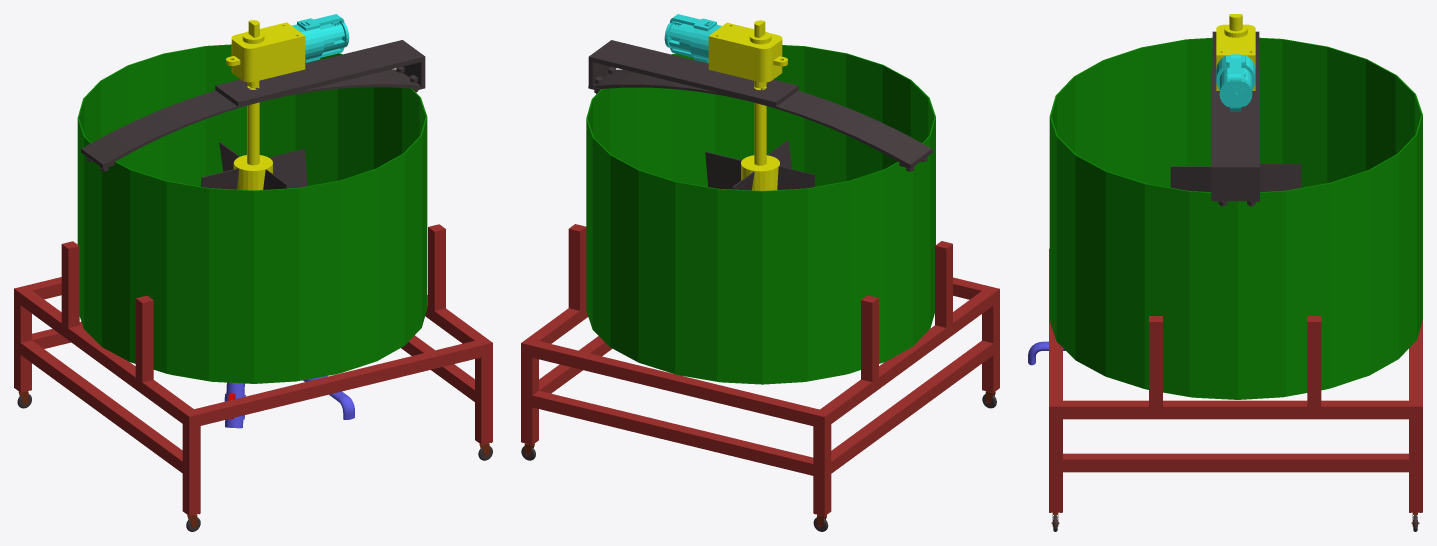
File: mixingtank.glb
3 renders of one model, left to right at view 1: azimuth 30°, elevation 25°; view 2: azimuth 150°, elevation 25°; view 3: azimuth 270°, elevation 25°, orthographic. The views are drawn at different scales.
Visible parts, largest first — view 1: digester (1).015; view 2: digester (1).015; view 3: digester (1).015.
Part boxes in pixels (left/top/right/bottom): digester (1).015: left=14, top=14, right=492, bottom=531; digester (1).015: left=521, top=14, right=999, bottom=531; digester (1).015: left=1028, top=14, right=1422, bottom=531.
Bounding box in the file's own units: 1.88 × 2.29 × 1.87.
